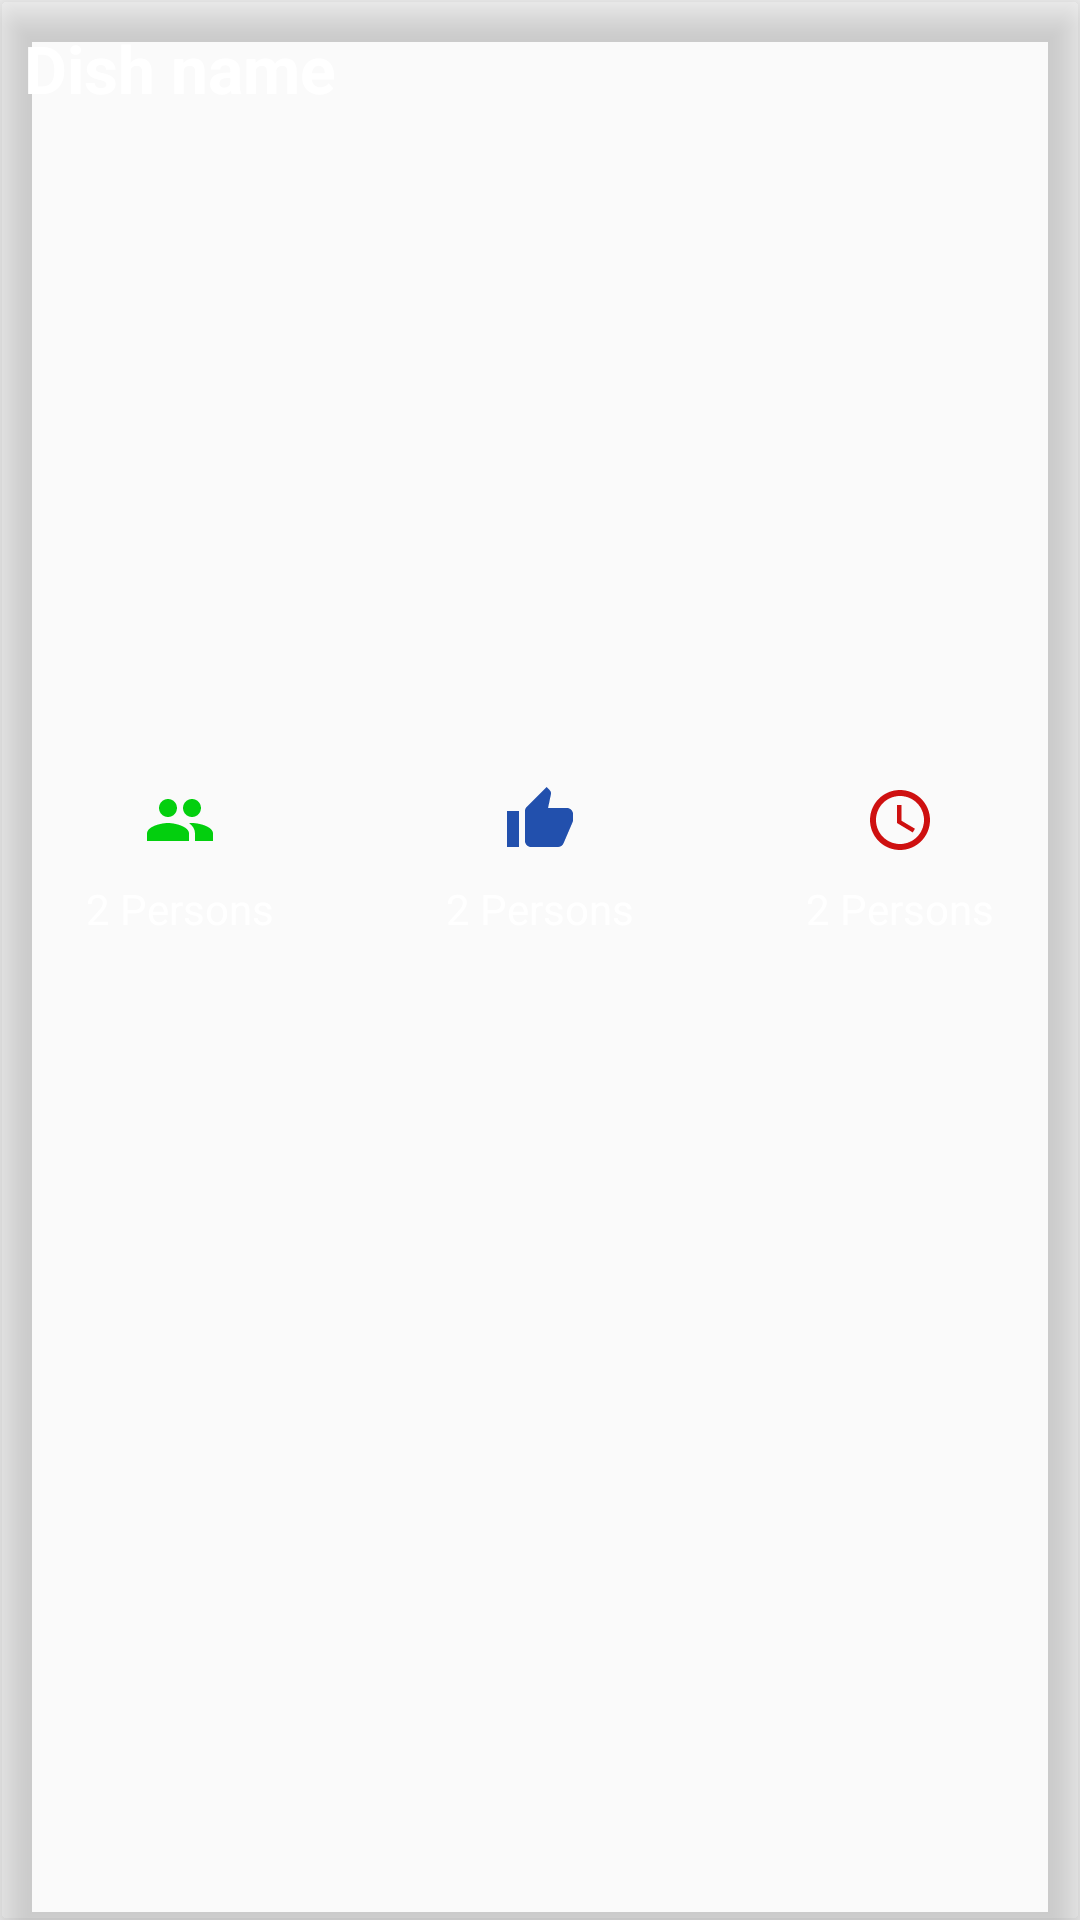

Where to tap for icons on this 1080px x 1920px app screen, as [x,y]:
like: [540,817]
servings: [180,820]
time: [900,820]
